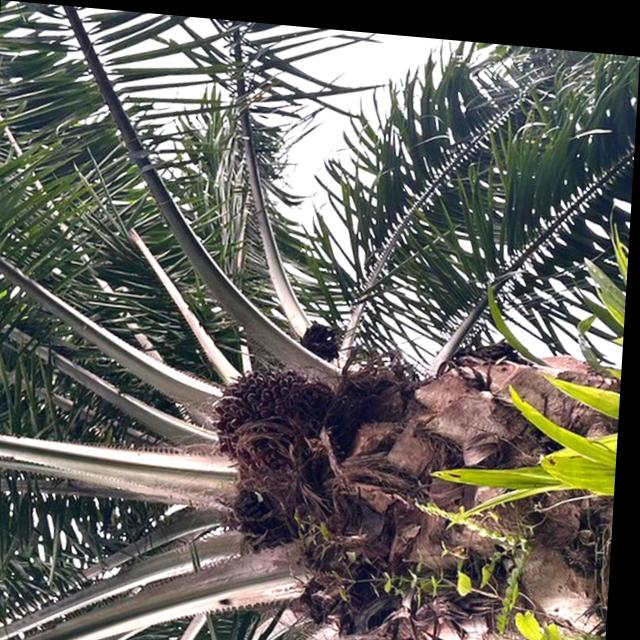ripe: (202, 351, 341, 494)
